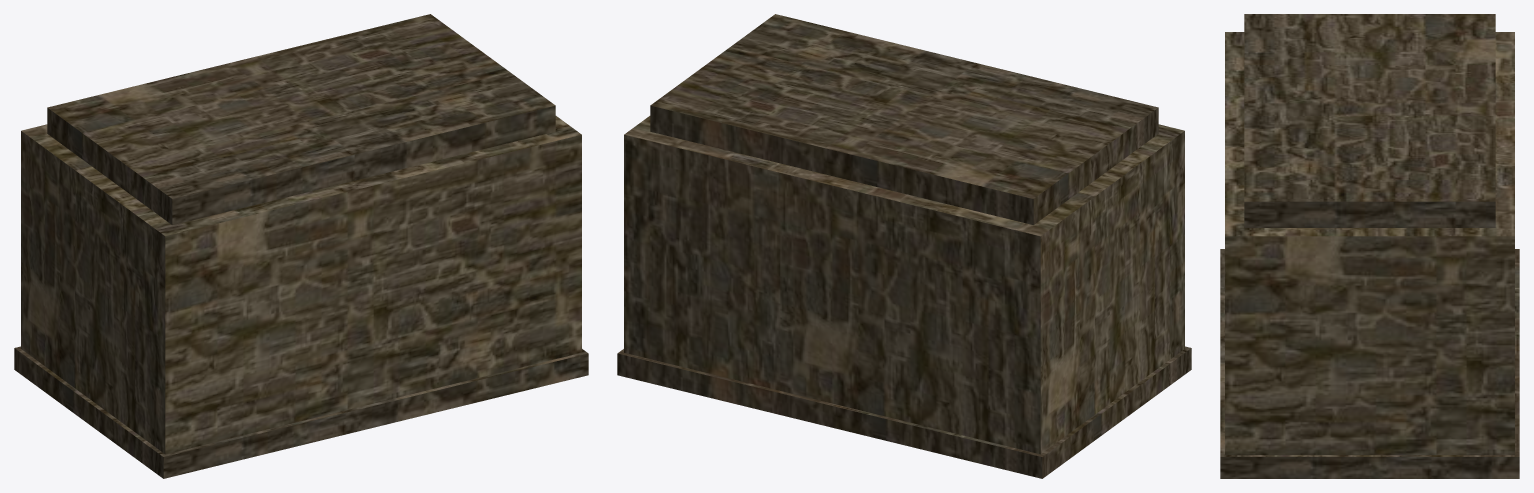
The model's file is wall_block_01.glb.
3 renders of one model, left to right at view 1: azimuth 30°, elevation 25°; view 2: azimuth 150°, elevation 25°; view 3: azimuth 270°, elevation 25°, orthographic.
Parts seen in each view (by area): view 1: wall_block_01; view 2: wall_block_01; view 3: wall_block_01.
Boxes of the visible parts, x1,y1,x2,y2 form: wall_block_01: [14, 14, 588, 478]; wall_block_01: [617, 14, 1191, 478]; wall_block_01: [1220, 14, 1519, 478].
Bounding box in the file's own units: 1.02 × 0.61 × 0.62.
2 materials, 2 textured.
